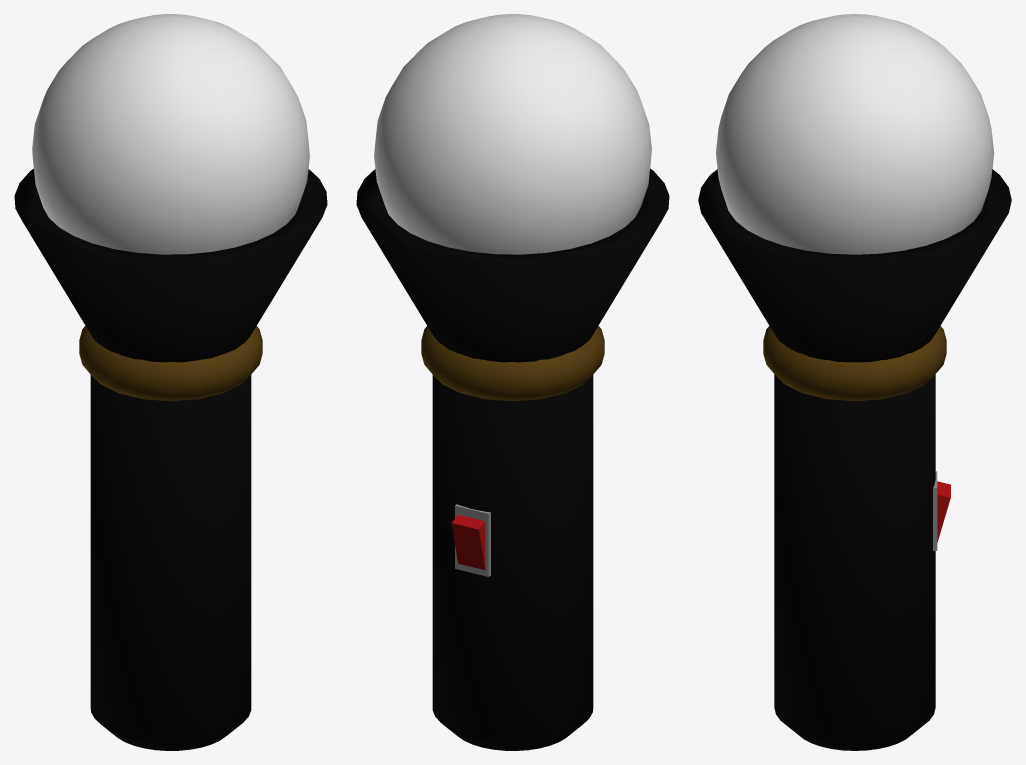
The model's file is torch.gltf.
The picture shows the model from 3 angles, left to right: view 1: azimuth 30°, elevation 25°; view 2: azimuth 150°, elevation 25°; view 3: azimuth 270°, elevation 25°; orthographic projection.
Parts seen in each view (by area): view 1: Cylinder, Sphere, Cone, Torus; view 2: Sphere, Cylinder, Cone, Torus, Cube.001, Cube; view 3: Cylinder, Sphere, Cone, Torus, Cube.001.
Part boxes in pixels (x1,y1,x2,y2): Cylinder: [90, 375, 251, 750]; Sphere: [32, 14, 309, 254]; Cone: [14, 168, 327, 362]; Torus: [79, 326, 262, 401]; Sphere: [374, 14, 651, 254]; Cylinder: [432, 375, 593, 750]; Cone: [356, 168, 669, 362]; Torus: [421, 326, 604, 401]; Cube.001: [451, 515, 485, 569]; Cube: [455, 504, 490, 576]; Cylinder: [774, 374, 935, 750]; Sphere: [716, 14, 993, 254]; Cone: [698, 169, 1011, 362]; Torus: [763, 326, 946, 401]; Cube.001: [937, 481, 950, 542].
Size of the model in its own units: 0.16 by 0.396 by 0.16.
